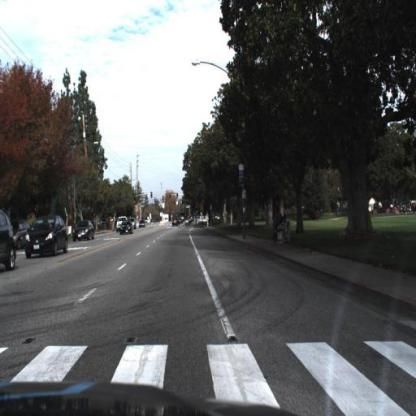car: (22, 209, 73, 263), (1, 213, 18, 270), (71, 217, 96, 246), (118, 218, 135, 238), (121, 221, 136, 237), (172, 215, 184, 231)
pedestrian: (271, 213, 280, 246), (279, 212, 286, 246)
